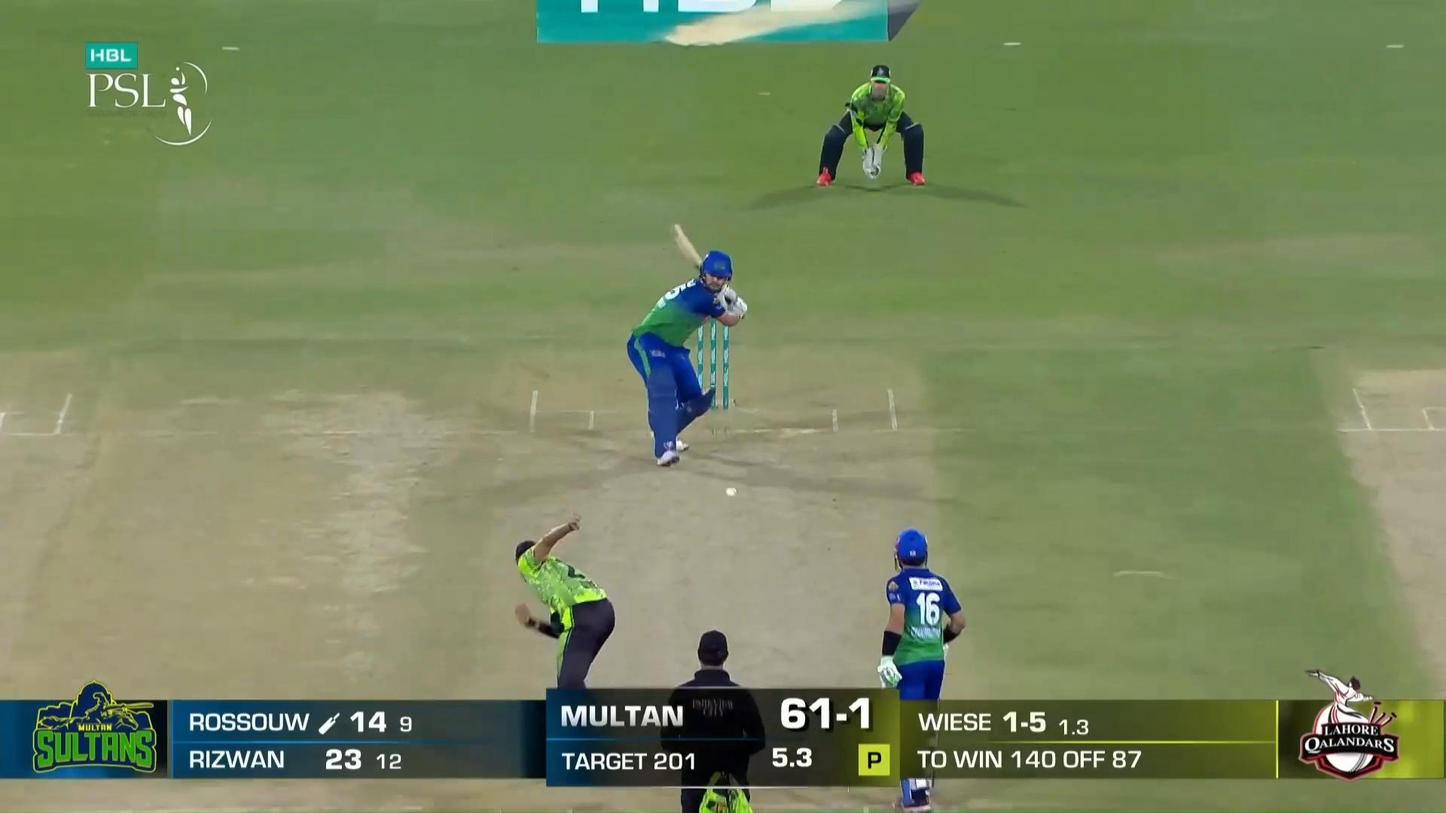batsman: (626, 224, 747, 467)
